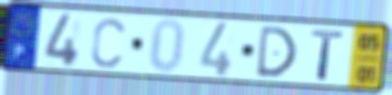0: (147, 17, 189, 75)
4: (42, 12, 81, 69), (197, 19, 234, 79)
C: (89, 16, 127, 70)
D: (254, 25, 299, 79)
T: (310, 28, 346, 83)
